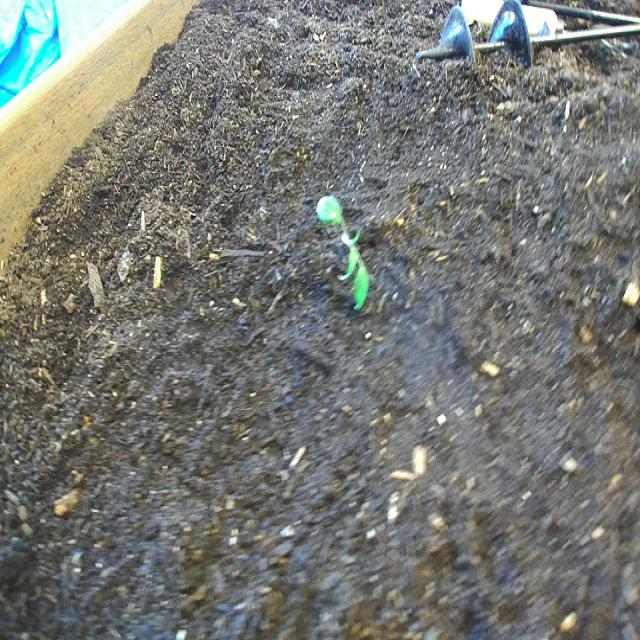Healthy: (310, 176, 382, 334)
